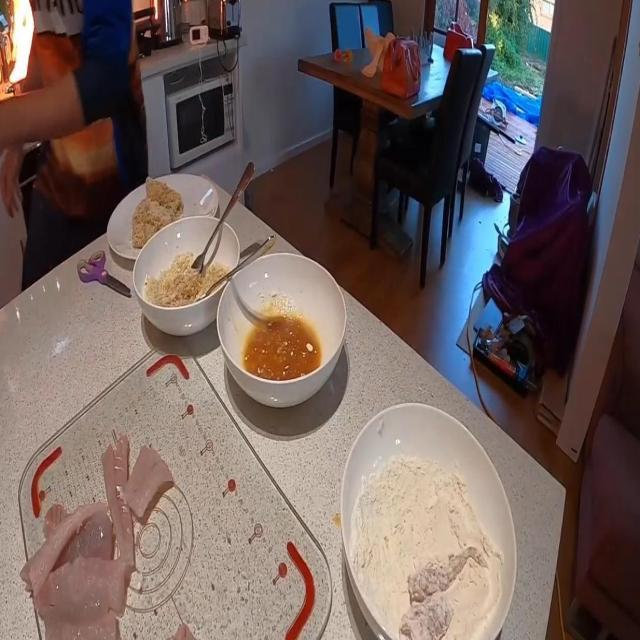smoke: (4, 0, 34, 85)
